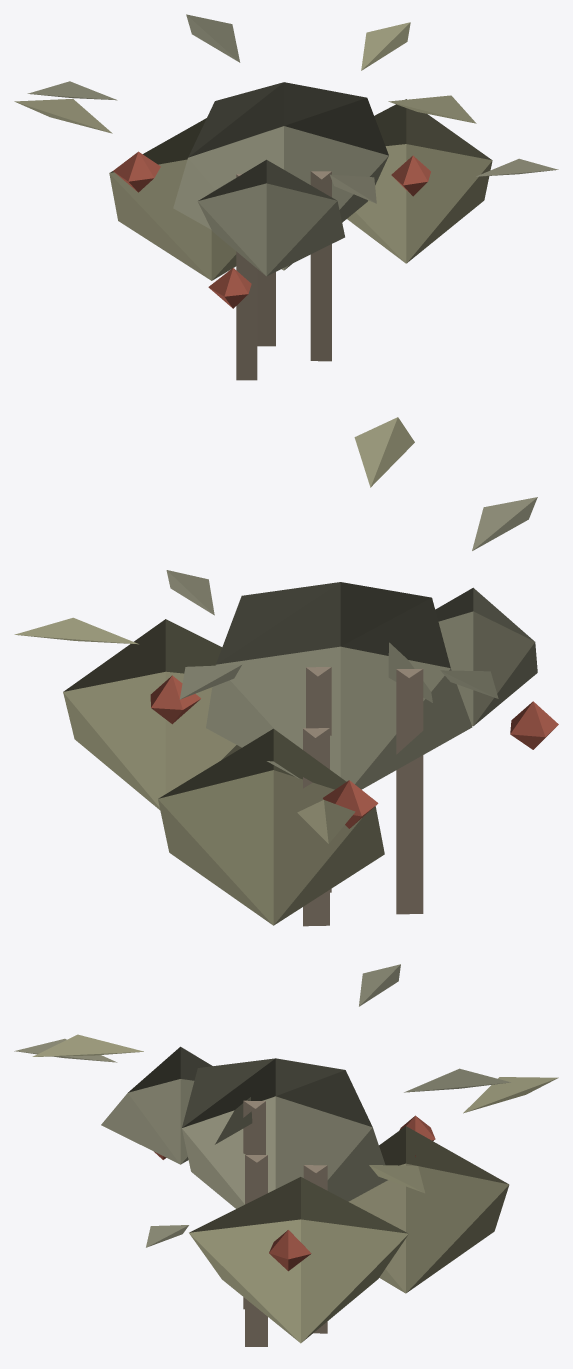
The model's file is guan.zhen__winter.glb.
3 renders of one model, top to bottom at view 1: azimuth 30°, elevation 25°; view 2: azimuth 150°, elevation 25°; view 3: azimuth 270°, elevation 25°, orthographic. The views are drawn at different scales.
Visible parts, largest first — view 1: guan.zhen__winter; view 2: guan.zhen__winter; view 3: guan.zhen__winter.
Boxes of the visible parts, <box> form: guan.zhen__winter: <box>14,14,558,380</box>; guan.zhen__winter: <box>14,417,558,926</box>; guan.zhen__winter: <box>14,964,558,1346</box>.
Bounding box in the file's own units: 2.66 × 1.93 × 2.98.
